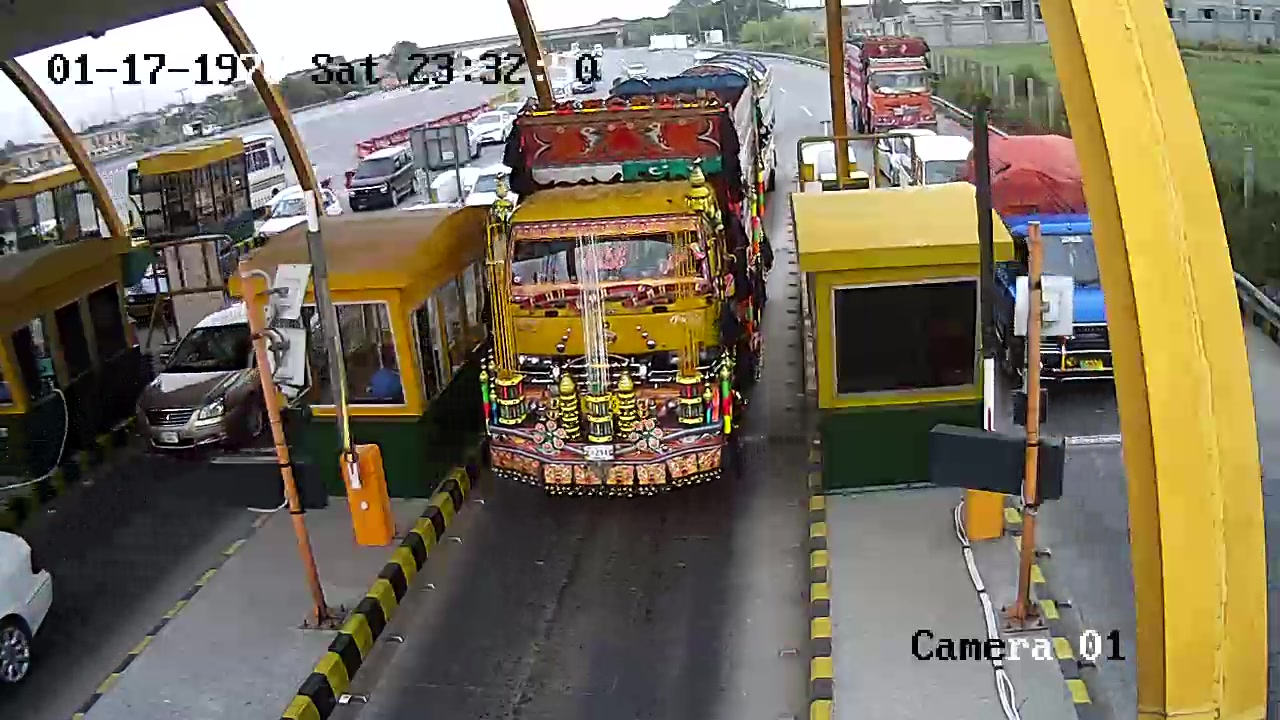F5: (474, 43, 776, 508)
